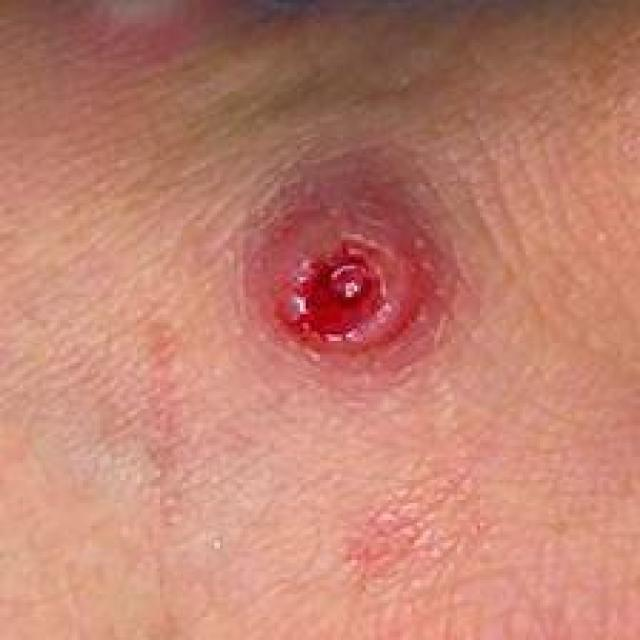monkeypox: (110, 92, 464, 530)
